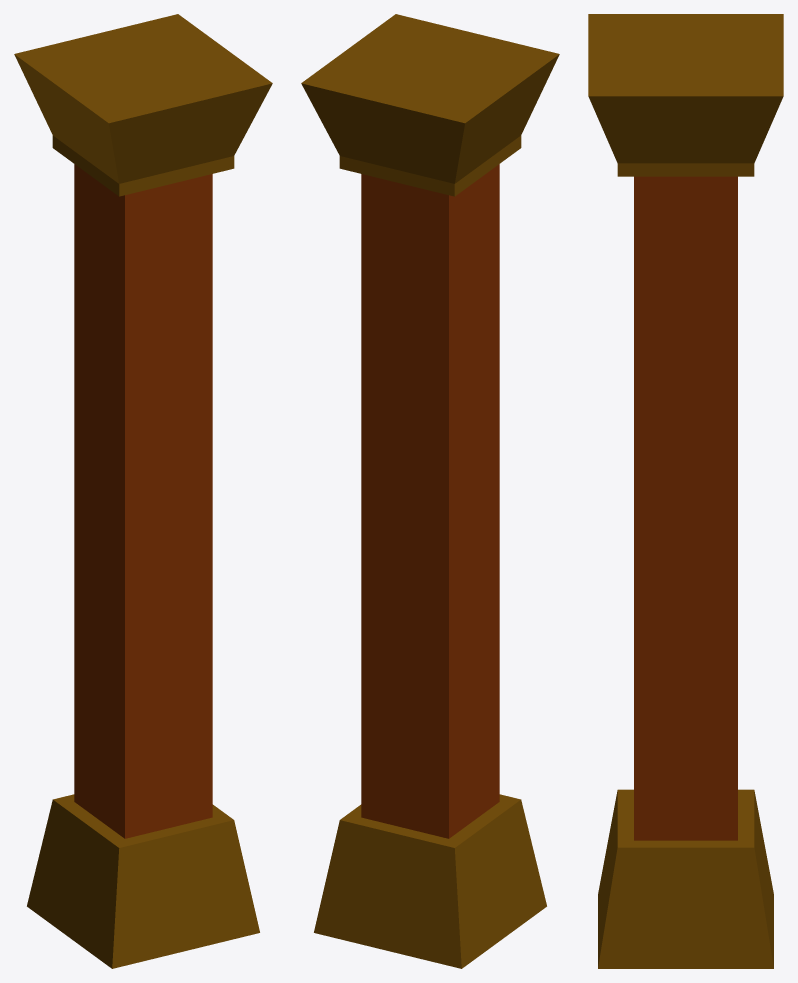
File: Temple walls2.fbx
3 views of the same model, side by side, from view 1: azimuth 30°, elevation 25°; view 2: azimuth 150°, elevation 25°; view 3: azimuth 270°, elevation 25° (orthographic). The views are drawn at different scales.
Parts seen in each view (by area): view 1: Cube; view 2: Cube; view 3: Cube.
Boxes of the visible parts, x1,y1,x2,y2 form: Cube: (14,14,272,968); Cube: (301,14,559,968); Cube: (588,14,783,968).
Bounding box in the file's own units: 172 × 854 × 172.
